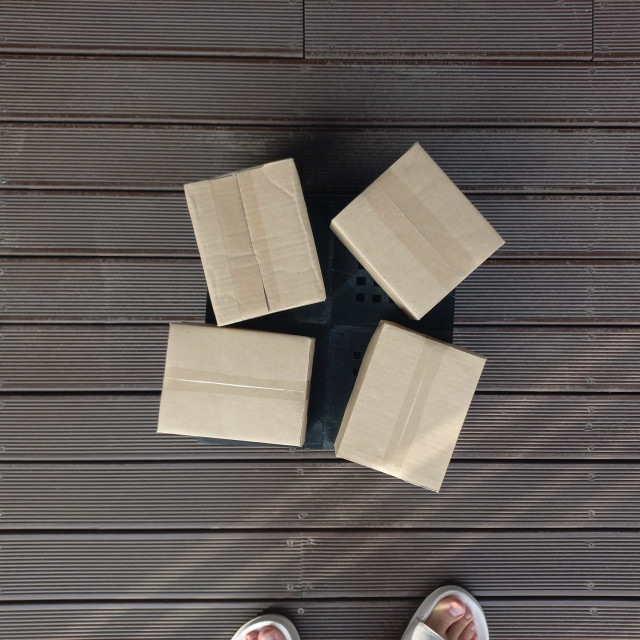box: (134, 316, 310, 501), (154, 145, 306, 321), (313, 310, 459, 483), (324, 189, 483, 319)
